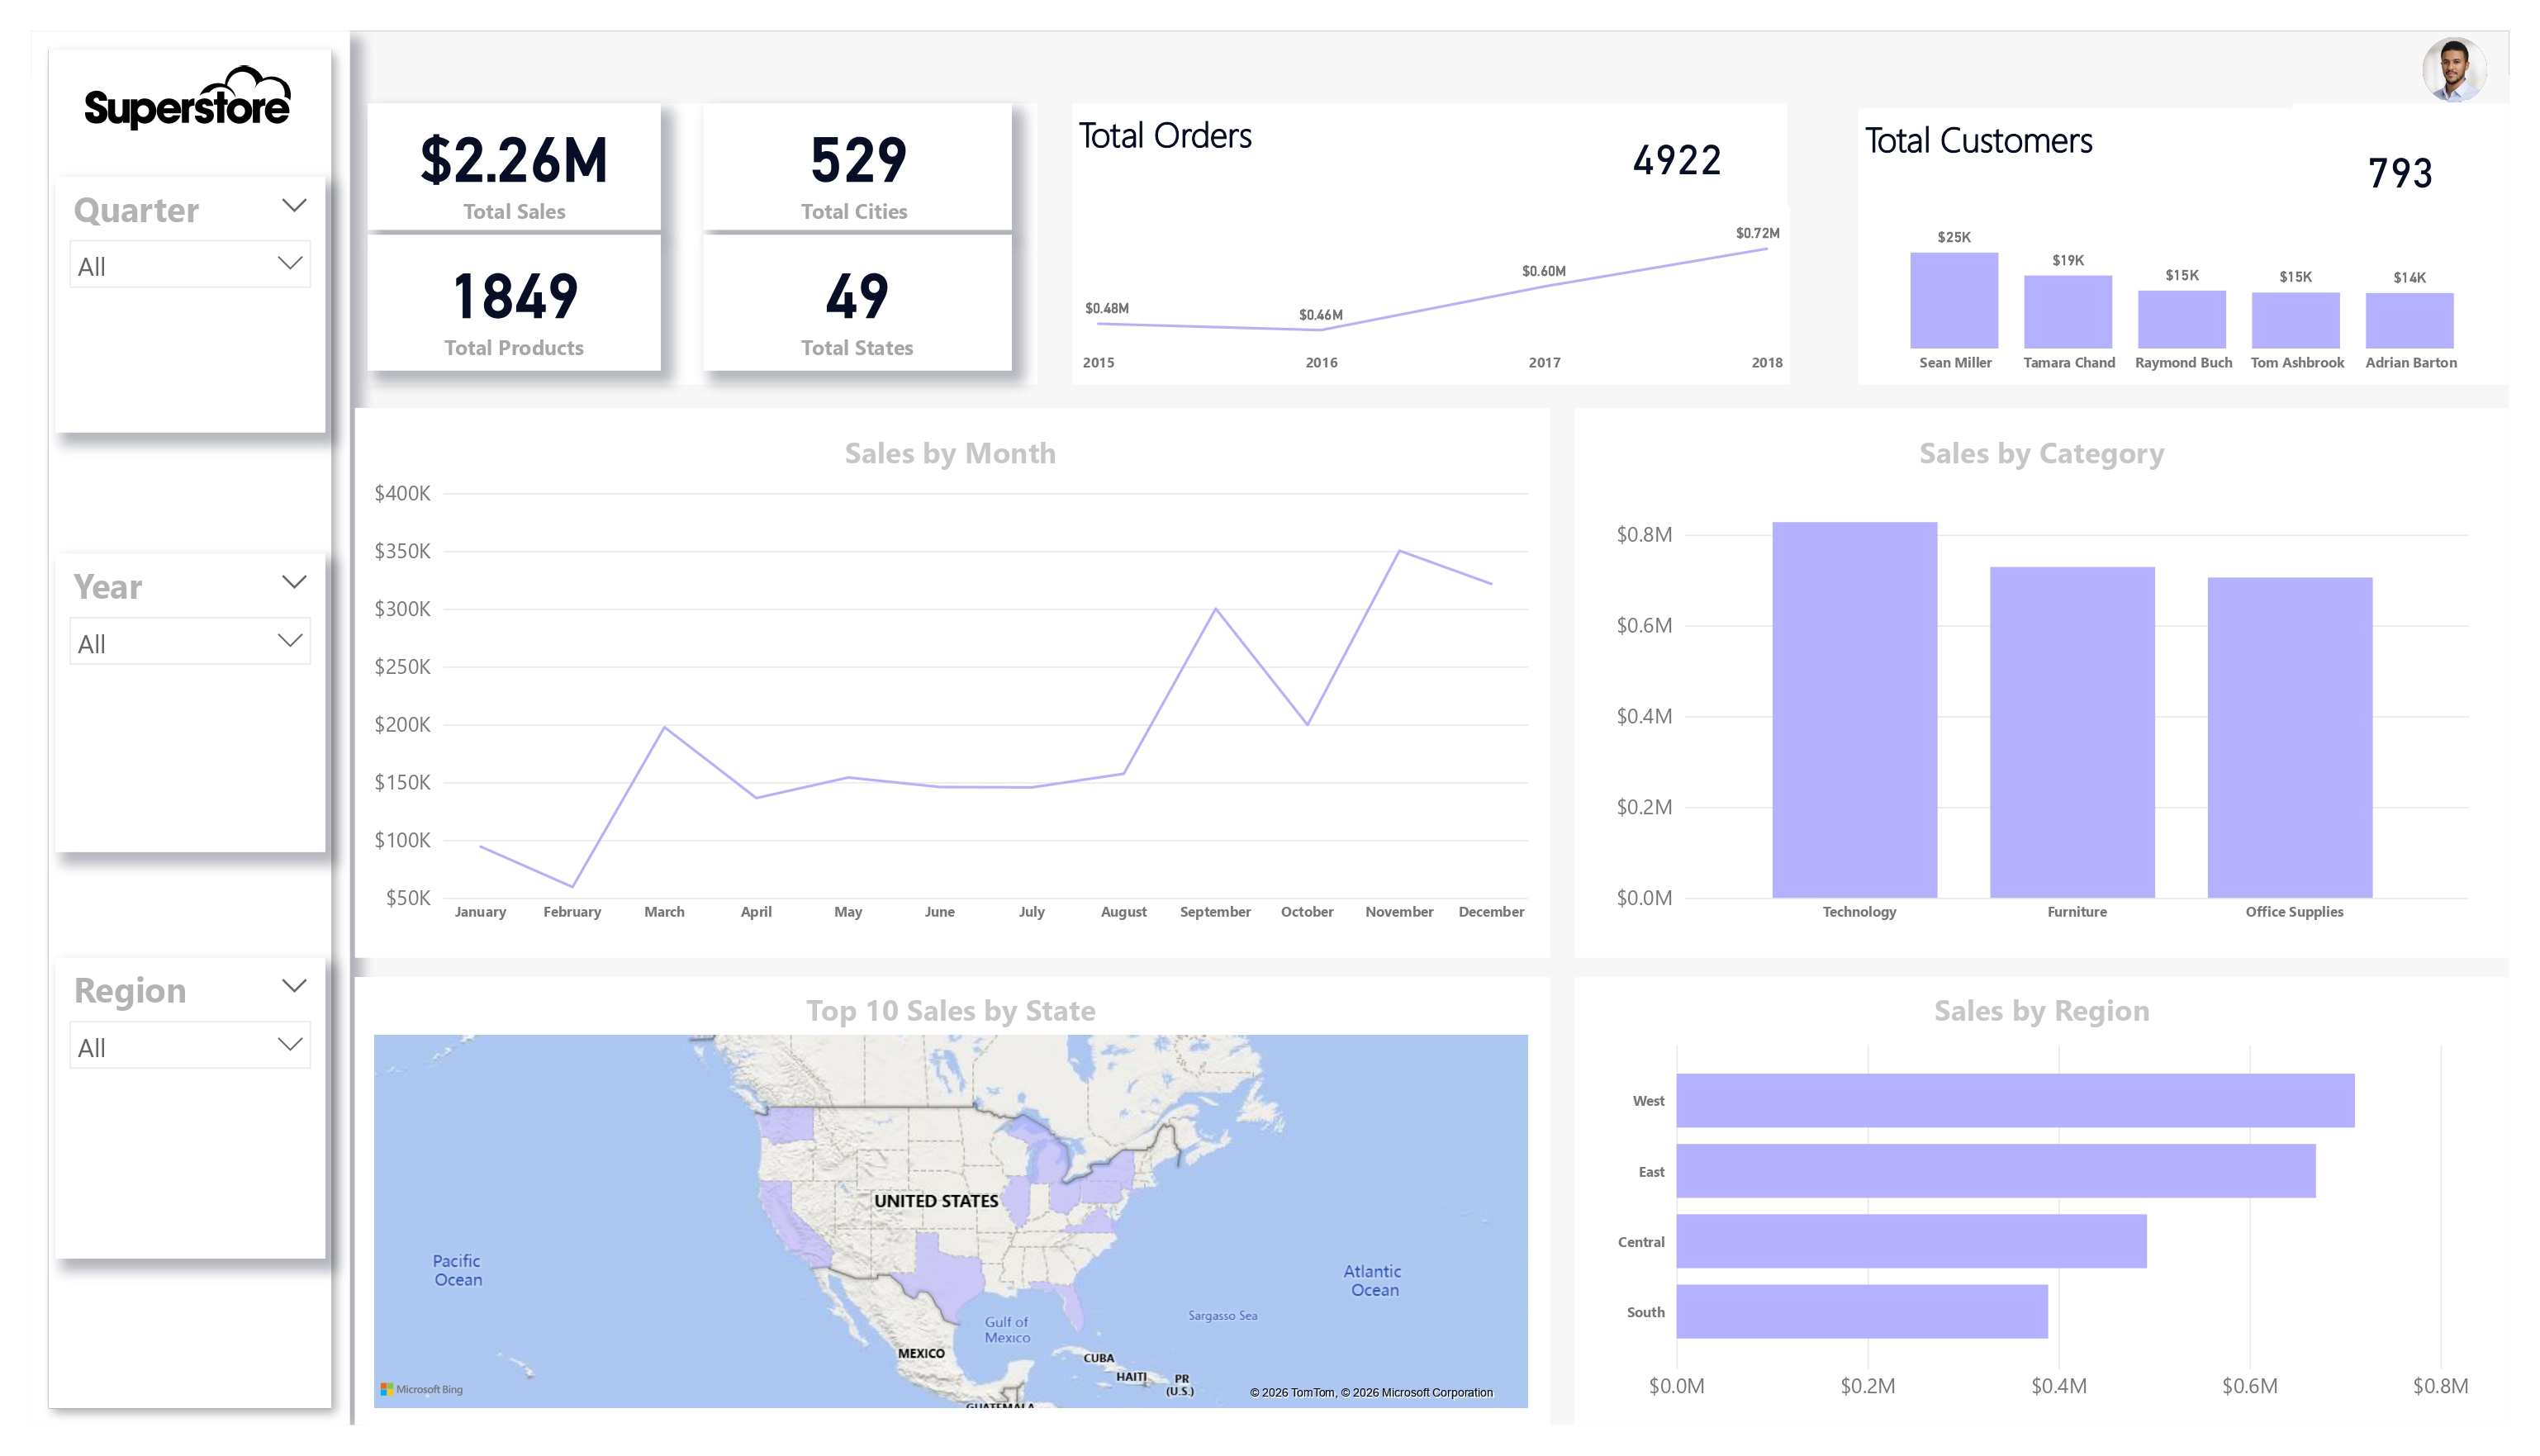

What the dashboard file says about the page in this screenshot:
{"tool":"powerbi","page":{"name":"Overview","canvas":[1920,1080],"ordinal":0},"visuals":[{"type":"shape","box":[261.4,55.6,518.7,218.2],"z":0},{"type":"shape","box":[0,0,247,1080.6],"z":1000},{"type":"shape","box":[806.9,55.6,553.7,218.2],"z":2000},{"type":"shape","box":[1416.1,59.7,504.3,214.1],"z":3000},{"type":"shape","box":[251.1,292.3,926.2,426.1],"z":4000},{"type":"shape","box":[1195.9,292.3,724.5,426.1],"z":5000},{"type":"shape","box":[251.1,732.8,926.2,347.9],"z":6000},{"type":"shape","box":[1195.9,732.8,724.5,347.9],"z":7000},{"type":"card","fields":{"Values":["Superstore Sales Dataset.Total Sales"]},"box":[261.4,55.6,226.4,98.8],"z":8000},{"type":"card","fields":{"Values":["Count(Superstore Sales Dataset.Customer ID)"]},"box":[1751.6,55.6,168.8,102.9],"z":9000},{"type":"clusteredColumnChart","fields":{"Category":["Superstore Sales Dataset.Customer Name"],"Y":["Sum(Superstore Sales Dataset.Sales)"]},"box":[1416.1,137.9,504.3,135.8],"z":10000},{"type":"card","fields":{"Values":["Count(Superstore Sales Dataset.Order ID)"]},"box":[1189.7,55.6,170.8,82.3],"z":11000},{"type":"lineChart","fields":{"Y":["Sum(Superstore Sales Dataset.Sales)"],"Category":["Superstore Sales Dataset.Order Date.Variation.Date Hierarchy.Year"]},"box":[808.9,135.8,553.7,137.9],"z":12000},{"type":"lineChart","fields":{"Category":["Superstore Sales Dataset.Order Date.Variation.Date Hierarchy.Month"],"Y":["Sum(Superstore Sales Dataset.Sales)"]},"box":[261.4,310.8,903.6,391.1],"z":13000},{"type":"clusteredColumnChart","title":"Sales by Category","fields":{"Category":["Superstore Sales Dataset.Category"],"Y":["Sum(Superstore Sales Dataset.Sales)"]},"box":[1222.6,310.8,671,391.1],"z":14000},{"type":"clusteredBarChart","title":"Sales by Region","fields":{"Y":["Sum(Superstore Sales Dataset.Sales)"],"Category":["Superstore Sales Dataset.Region"]},"box":[1222.6,743.1,671,329.3],"z":15000},{"type":"filledMap","title":"Top 10 Sales by State","fields":{"Category":["Superstore Sales Dataset.State"]},"box":[261.4,743.1,903.6,329.3],"z":16000},{"type":"slicer","fields":{"Values":["Superstore Sales Dataset.Order Date.Variation.Date Hierarchy.Year"]},"box":[18.5,405.5,209.9,230.5],"z":17000},{"type":"slicer","fields":{"Values":["Superstore Sales Dataset.Region"]},"box":[18.5,718.4,209.9,232.6],"z":18000},{"type":"slicer","fields":{"Values":["Superstore Sales Dataset.Order Date.Variation.Date Hierarchy.Quarter"]},"box":[18.5,113.2,209.9,197.6],"z":19000},{"type":"card","fields":{"Values":["Count(Superstore Sales Dataset.City)"]},"box":[520.8,55.6,238.8,98.8],"z":20000},{"type":"card","fields":{"Values":["Count(Superstore Sales Dataset.State)"]},"box":[520.8,158.5,238.8,105],"z":21000},{"type":"card","fields":{"Values":["Count(Superstore Sales Dataset.Product Name)"]},"box":[261.4,158.5,226.4,105],"z":22000},{"type":"textbox","box":[806.9,55.6,191.4,53.5],"z":23000},{"type":"textbox","box":[1416.1,59.7,220.2,53.5],"z":24000},{"type":"image","box":[15.6,22.2,211.1,60],"z":25000},{"type":"image","box":[1836,0,84.4,59.7],"z":26000}]}

Visuals, with their boxes in screenshot pixels (x1, y1, x2, y2):
shape: <bbox>347, 16, 1048, 311</bbox>
shape: <bbox>0, 0, 327, 1401</bbox>
shape: <bbox>1085, 16, 1834, 311</bbox>
shape: <bbox>1909, 21, 2539, 311</bbox>
shape: <bbox>333, 336, 1586, 912</bbox>
shape: <bbox>1611, 336, 2539, 912</bbox>
shape: <bbox>333, 932, 1586, 1402</bbox>
shape: <bbox>1611, 932, 2539, 1402</bbox>
card - Superstore Sales Dataset.Total Sales: <bbox>347, 16, 653, 149</bbox>
card - Count(Superstore Sales Dataset.Customer ID): <bbox>2362, 16, 2539, 154</bbox>
clusteredColumnChart - Superstore Sales Dataset.Customer Name x Sum(Superstore Sales Dataset.Sales): <bbox>1909, 127, 2539, 311</bbox>
card - Count(Superstore Sales Dataset.Order ID): <bbox>1602, 16, 1834, 127</bbox>
lineChart - Sum(Superstore Sales Dataset.Sales) x Superstore Sales Dataset.Order Date.Variation.Date Hierarchy.Year: <bbox>1088, 124, 1836, 311</bbox>
lineChart - Superstore Sales Dataset.Order Date.Variation.Date Hierarchy.Month x Sum(Superstore Sales Dataset.Sales): <bbox>347, 361, 1569, 889</bbox>
"Sales by Category" clusteredColumnChart: <bbox>1647, 361, 2539, 889</bbox>
"Sales by Region" clusteredBarChart: <bbox>1647, 946, 2539, 1391</bbox>
"Top 10 Sales by State" filledMap: <bbox>347, 946, 1569, 1391</bbox>
slicer - Superstore Sales Dataset.Order Date.Variation.Date Hierarchy.Year: <bbox>18, 489, 302, 800</bbox>
slicer - Superstore Sales Dataset.Region: <bbox>18, 912, 302, 1226</bbox>
slicer - Superstore Sales Dataset.Order Date.Variation.Date Hierarchy.Quarter: <bbox>18, 93, 302, 361</bbox>
card - Count(Superstore Sales Dataset.City): <bbox>698, 16, 1021, 149</bbox>
card - Count(Superstore Sales Dataset.State): <bbox>698, 154, 1021, 296</bbox>
card - Count(Superstore Sales Dataset.Product Name): <bbox>347, 154, 653, 296</bbox>
textbox: <bbox>1085, 16, 1344, 88</bbox>
textbox: <bbox>1909, 21, 2206, 93</bbox>
image: <bbox>15, 0, 300, 52</bbox>
image: <bbox>2476, 0, 2539, 21</bbox>
